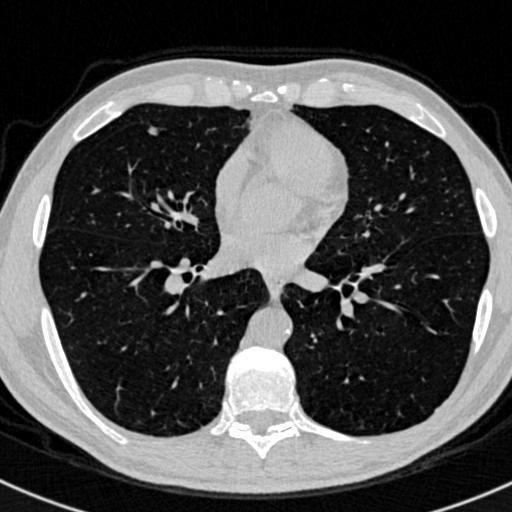nodule: (147, 125, 159, 137)
